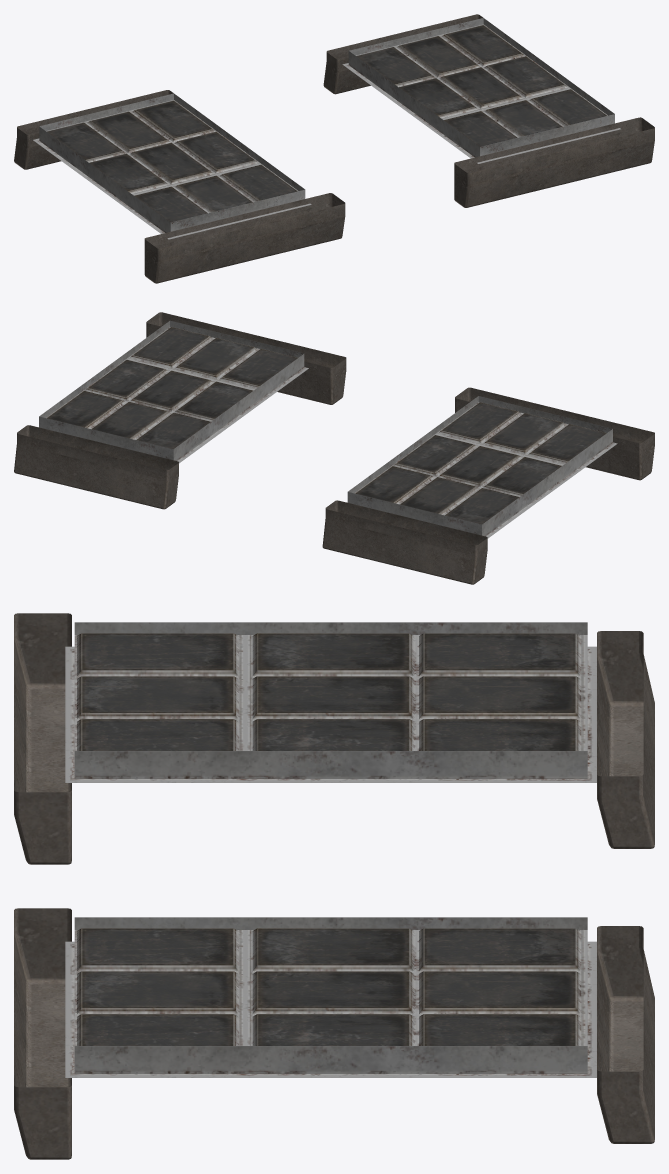
The model's file is window_centered_double_02.gltf.
The picture shows the model from 3 angles, top to bottom: view 1: azimuth 30°, elevation 25°; view 2: azimuth 150°, elevation 25°; view 3: azimuth 270°, elevation 25°; orthographic projection. The views are drawn at different scales.
Visible parts, largest first — view 1: window_centered_double_02; view 2: window_centered_double_02; view 3: window_centered_double_02.
Part boxes in pixels (x1,y1,x2,y2): window_centered_double_02: (14,14,654,283); window_centered_double_02: (14,312,654,584); window_centered_double_02: (14,613,654,1159).
Size of the model in its own units: 2.41 by 0.2167 by 1.38.
Materials: 2 (2 with a texture image).
